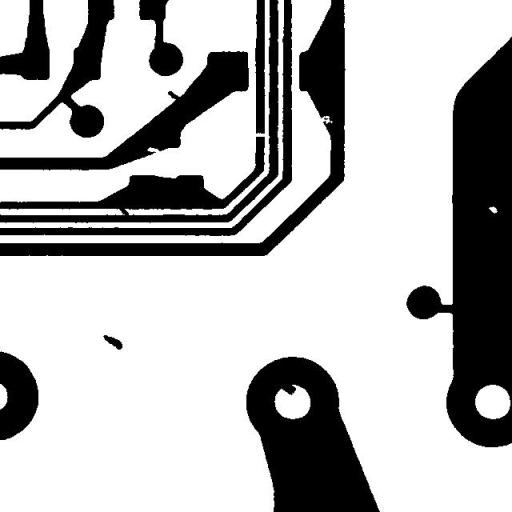copper: (95, 327, 130, 357)
mousebite: (310, 108, 340, 131), (140, 139, 166, 159)
open: (246, 125, 275, 144)
pin-hole: (481, 198, 505, 221)
short: (110, 198, 136, 224)
spur: (270, 376, 304, 402), (160, 83, 189, 108)
